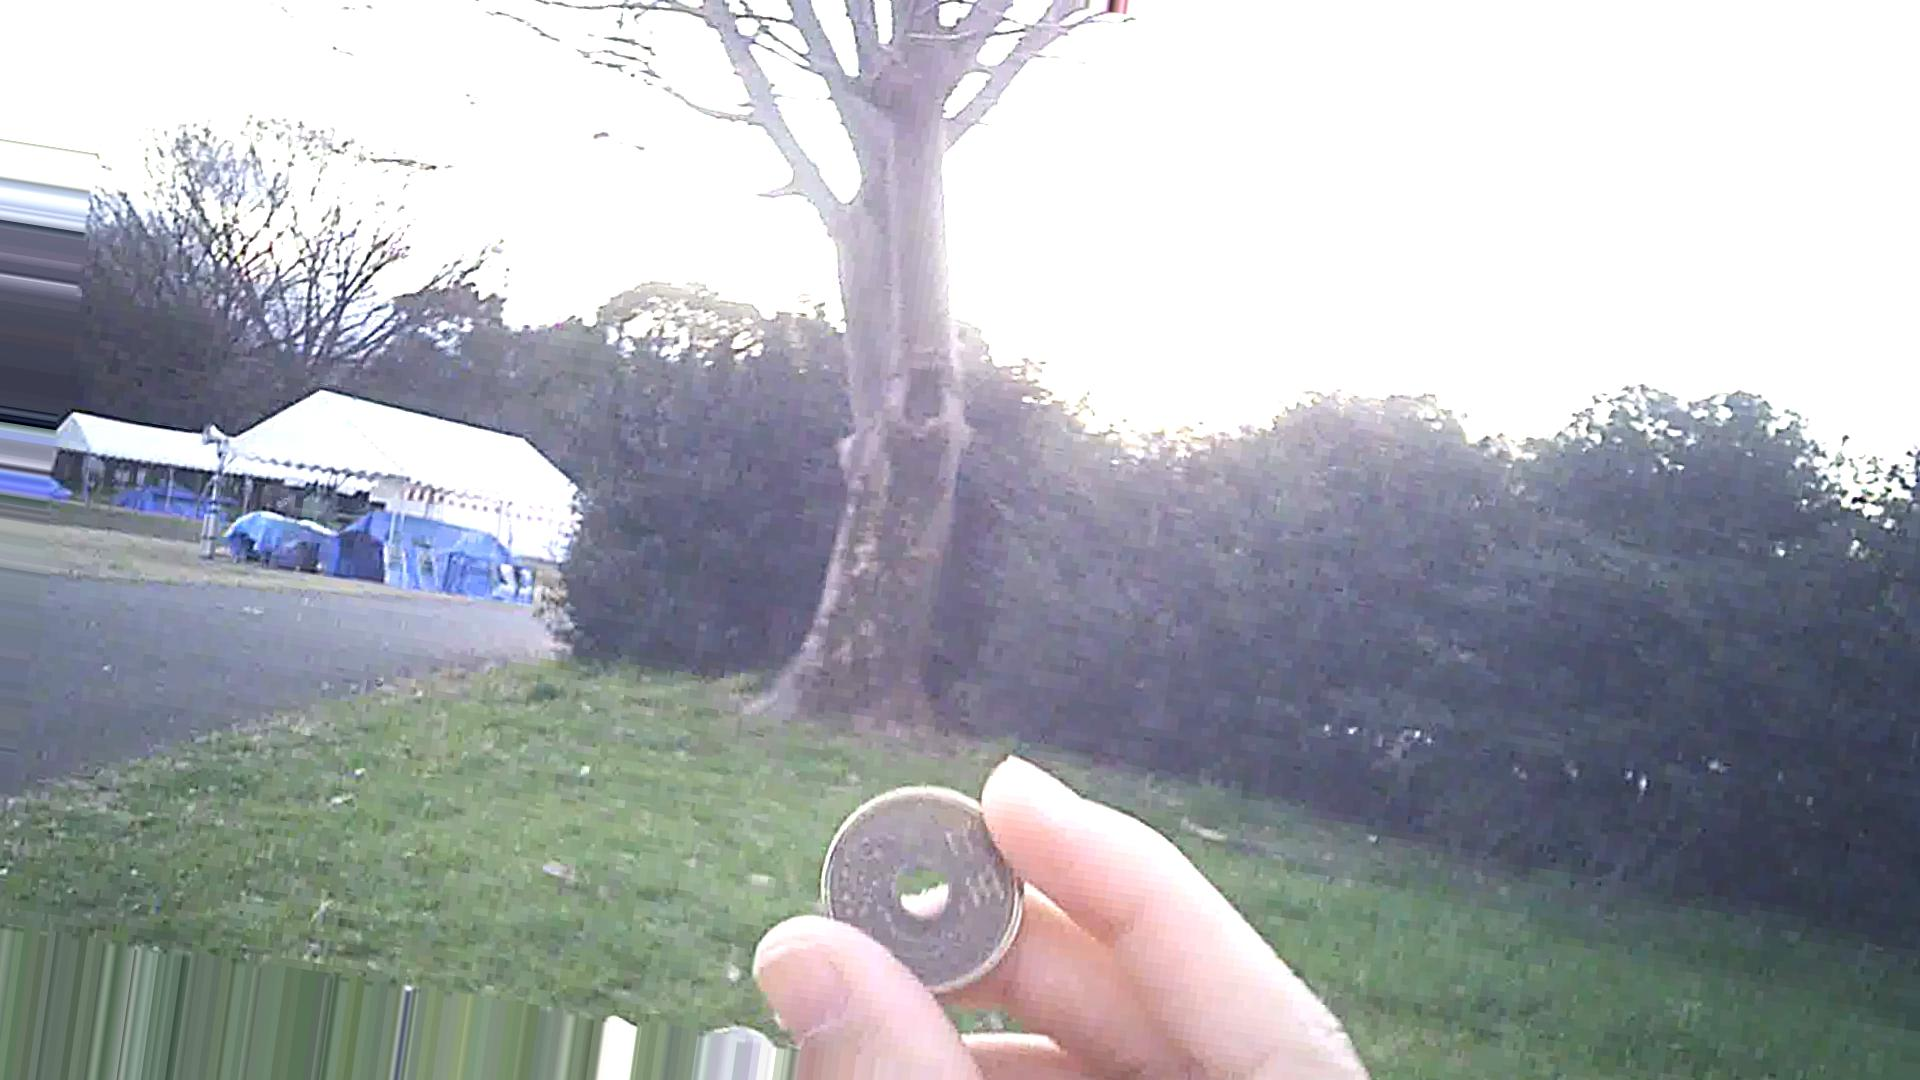5 Yen: (833, 773, 1040, 978)
